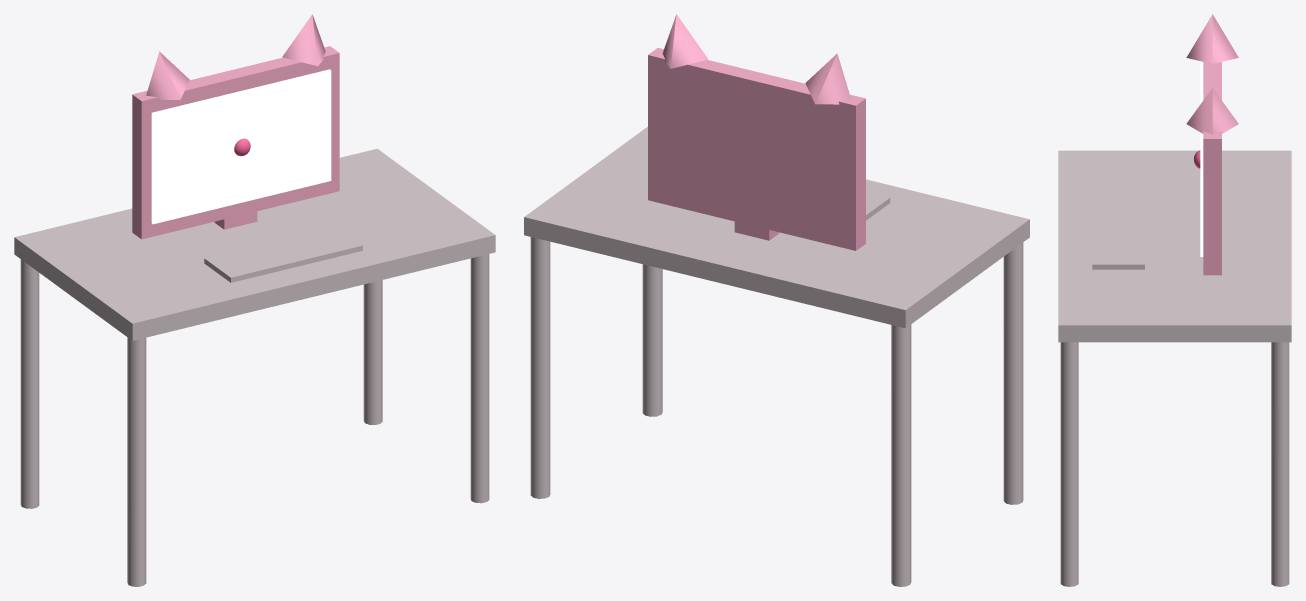
Rendered from pc_cute_1.glb.
The picture shows the model from 3 angles, left to right: view 1: azimuth 30°, elevation 25°; view 2: azimuth 150°, elevation 25°; view 3: azimuth 270°, elevation 25°; orthographic projection. The views are drawn at different scales.
Size of the model in its own units: 1.1 by 1.32 by 0.62.
